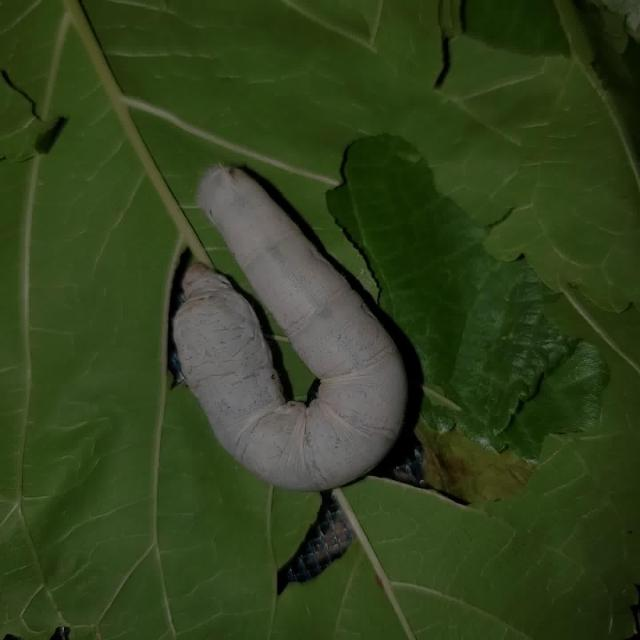Healthy: (122, 134, 462, 526)
